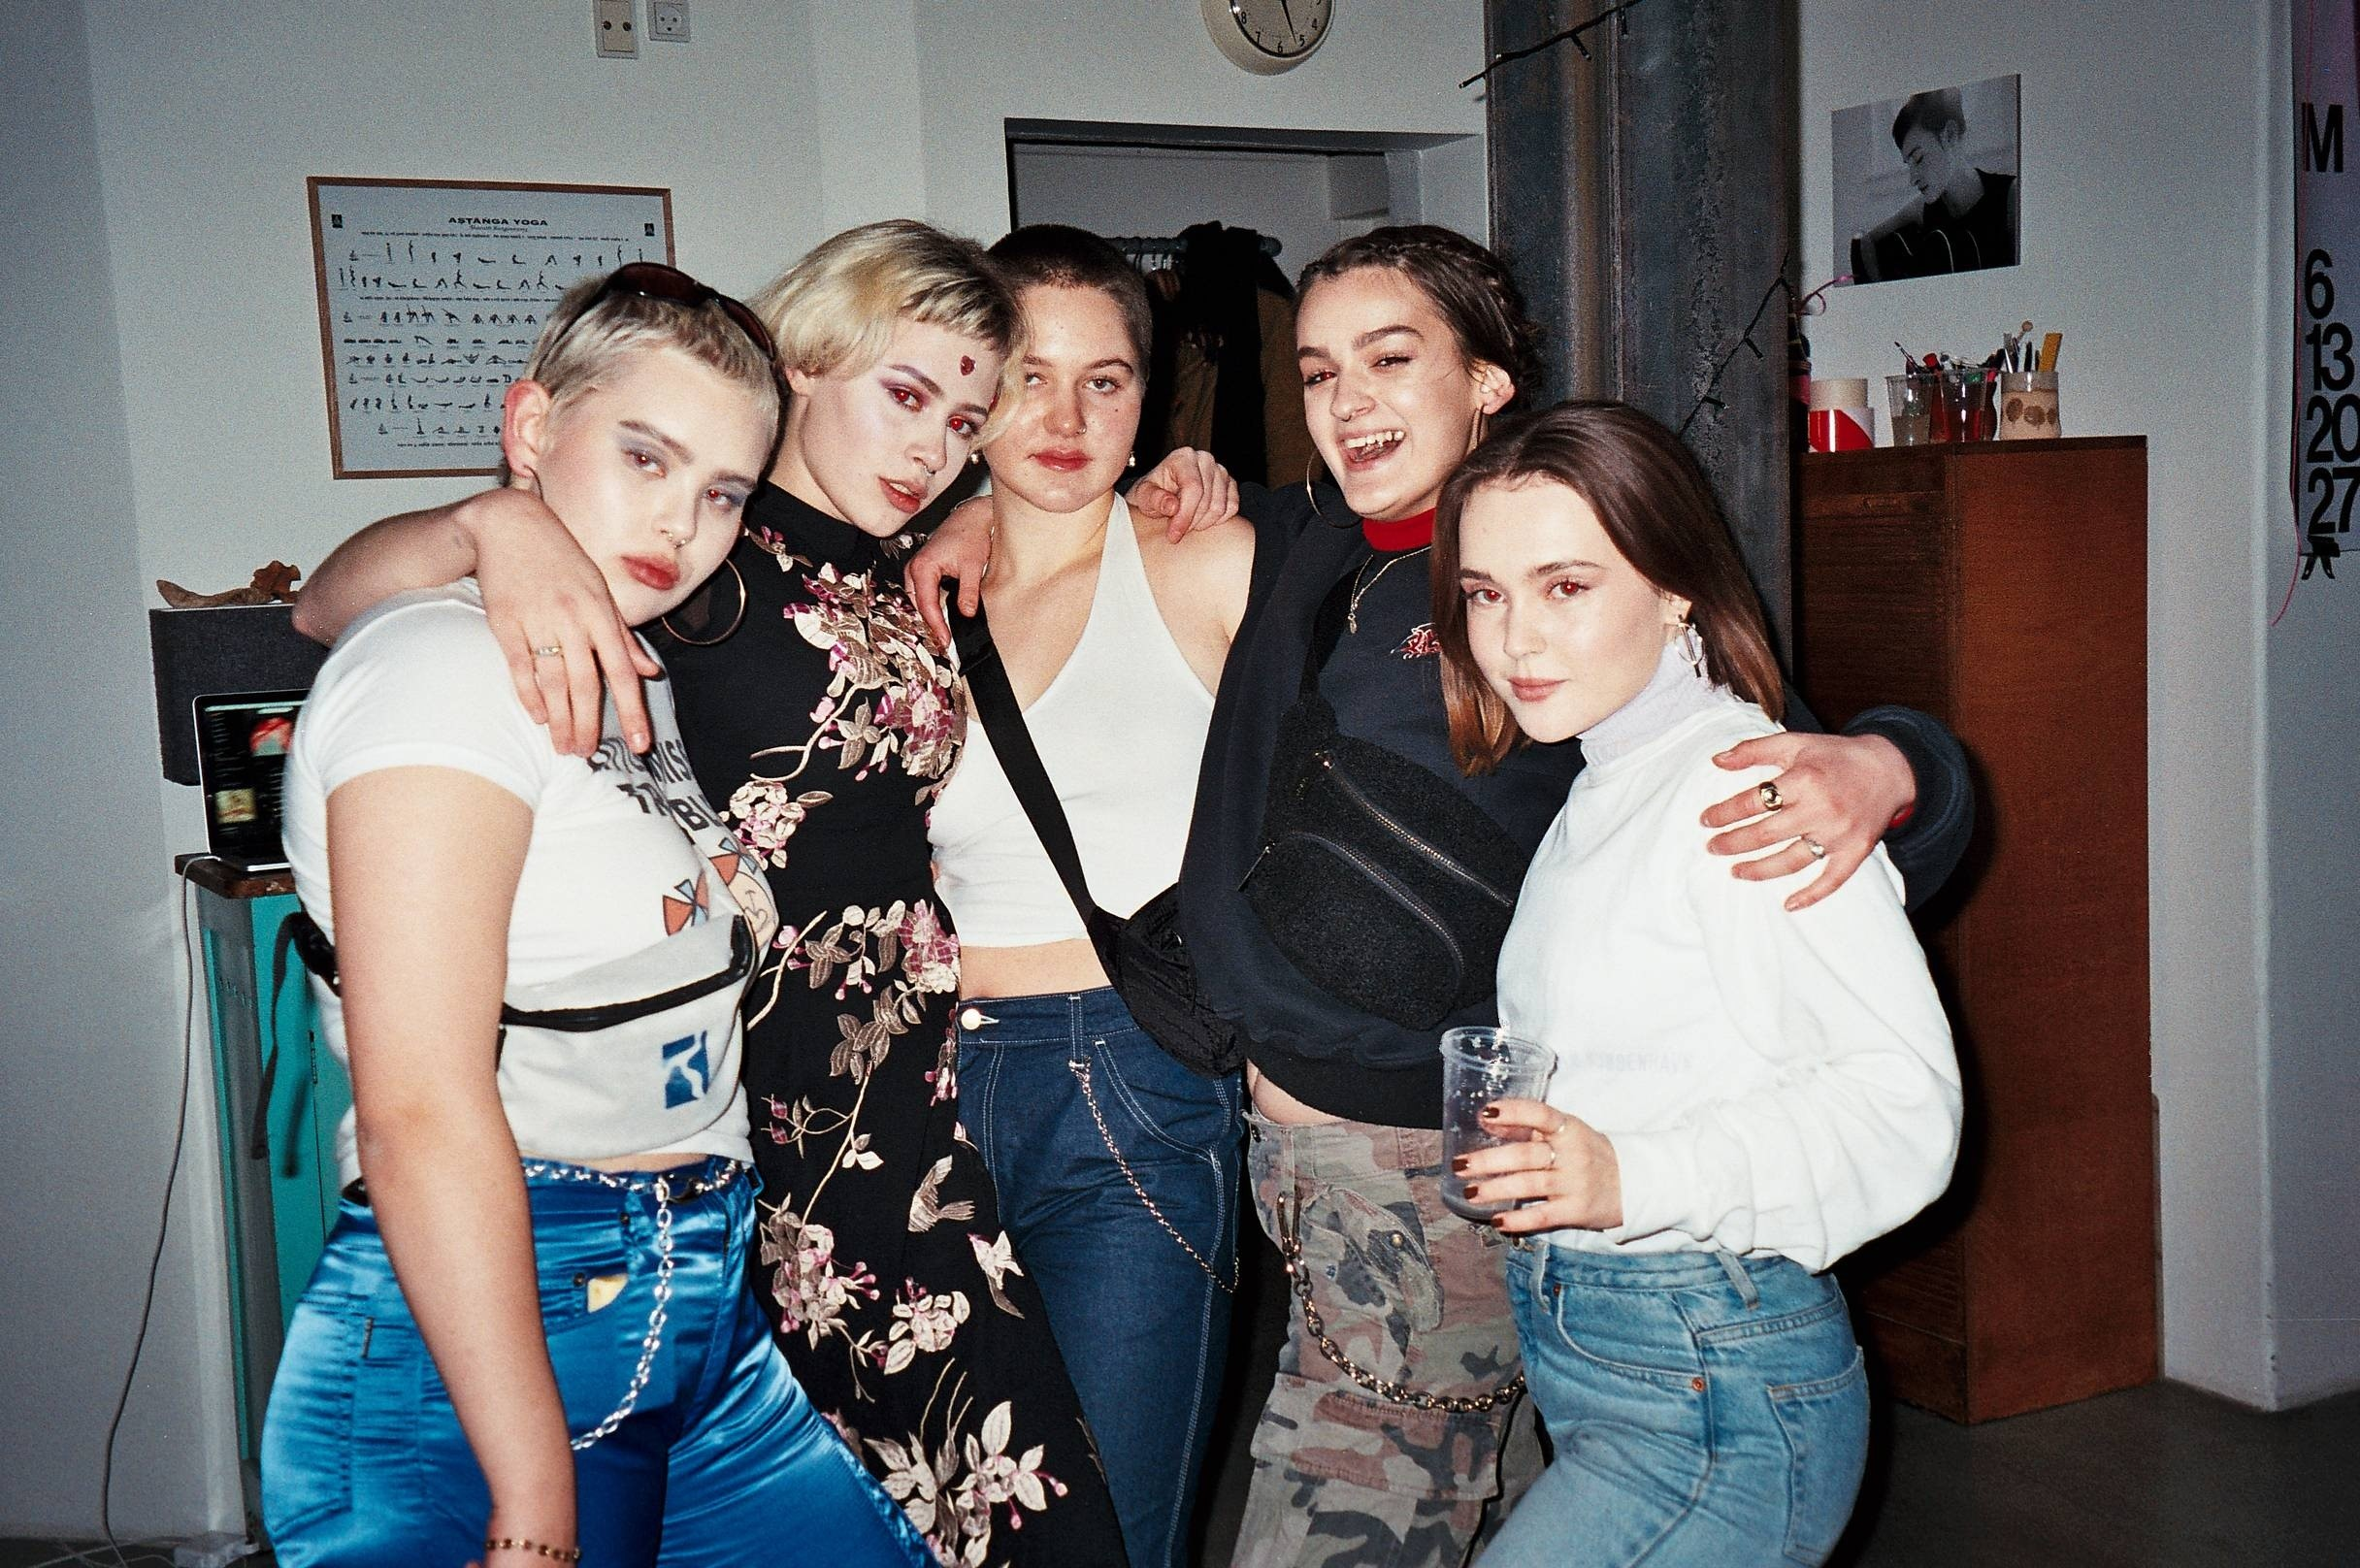face_no_mask: (496, 269, 789, 627), (1456, 408, 1687, 746), (764, 225, 1000, 552), (1280, 227, 1515, 525), (987, 231, 1150, 518)
